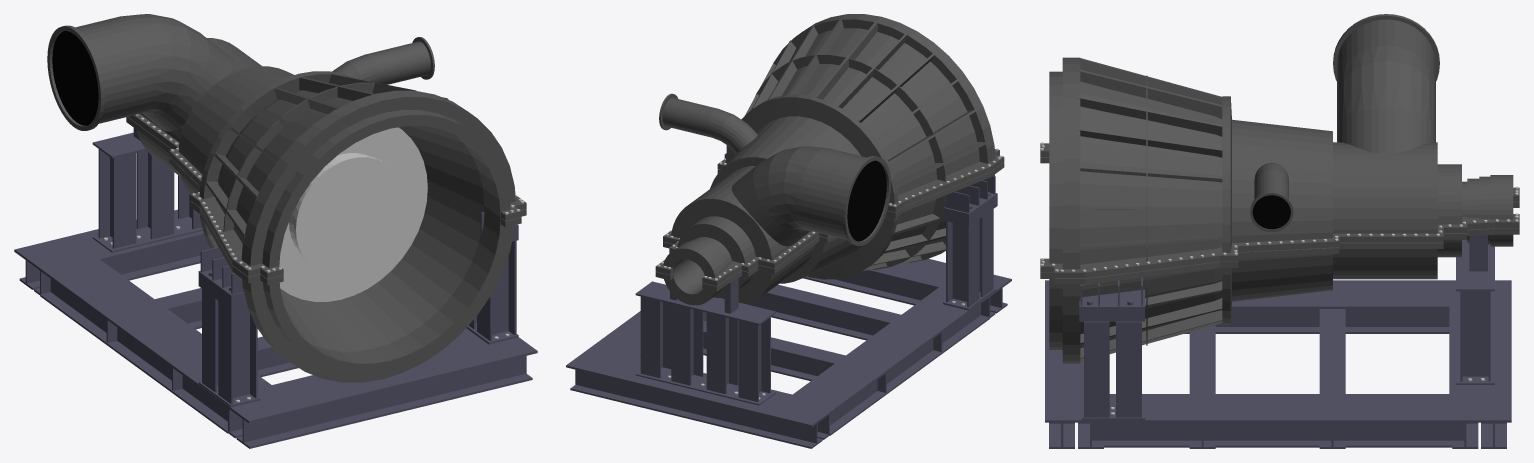
File: TURBINE ONLY.fbx
The picture shows the model from 3 angles, left to right: view 1: azimuth 30°, elevation 25°; view 2: azimuth 150°, elevation 25°; view 3: azimuth 270°, elevation 25°; orthographic projection. The views are drawn at different scales.
Visible parts, largest first — view 1: Group_51, Group_50, Group_53, Group_77, Group_65, Group_315, Group_69, Group_73, Group_58, Group_57, Group_63, Group_313 (+14 smaller); view 2: Group_51, Group_53, Group_77, Group_62, Group_71, Group_315, Group_69, Group_313, Group_72, Group_161, Group_58, Group_57 (+20 smaller); view 3: Group_51, Group_53, Group_77, Group_66, Group_162, Group_68, Group_164, Group_55, Group_75, Group_76, Group_70, Group_71 (+20 smaller).
Boxes of the visible parts, x1=… form: Group_51: x1=137, y1=38, x2=515, y2=382; Group_50: x1=279, y1=127, x2=427, y2=301; Group_53: x1=14, y1=209, x2=537, y2=423; Group_77: x1=75, y1=14, x2=234, y2=131; Group_65: x1=236, y1=356, x2=532, y2=448; Group_315: x1=47, y1=25, x2=104, y2=130; Group_69: x1=40, y1=277, x2=228, y2=433; Group_73: x1=218, y1=301, x2=257, y2=404; Group_58: x1=98, y1=149, x2=136, y2=248; Group_57: x1=136, y1=150, x2=174, y2=239; Group_63: x1=34, y1=236, x2=210, y2=298; Group_313: x1=332, y1=41, x2=430, y2=84; Group_51: x1=663, y1=14, x2=995, y2=305; Group_53: x1=566, y1=258, x2=1011, y2=427; Group_77: x1=731, y1=146, x2=866, y2=246; Group_62: x1=570, y1=369, x2=822, y2=448; Group_71: x1=748, y1=284, x2=946, y2=355; Group_315: x1=842, y1=156, x2=890, y2=245; Group_69: x1=829, y1=304, x2=989, y2=435; Group_313: x1=662, y1=97, x2=757, y2=153; Group_72: x1=946, y1=219, x2=979, y2=307; Group_161: x1=702, y1=149, x2=1004, y2=286; Group_58: x1=738, y1=317, x2=770, y2=401; Group_57: x1=706, y1=312, x2=738, y2=394; Group_51: x1=1049, y1=57, x2=1513, y2=363; Group_53: x1=1045, y1=280, x2=1511, y2=422; Group_77: x1=1337, y1=19, x2=1435, y2=154; Group_66: x1=1092, y1=422, x2=1464, y2=447; Group_162: x1=1040, y1=214, x2=1519, y2=278; Group_68: x1=1184, y1=309, x2=1449, y2=333; Group_164: x1=1040, y1=228, x2=1519, y2=284; Group_55: x1=1460, y1=291, x2=1490, y2=381; Group_75: x1=1116, y1=321, x2=1141, y2=417; Group_76: x1=1084, y1=321, x2=1109, y2=417; Group_70: x1=1319, y1=309, x2=1345, y2=448; Group_71: x1=1189, y1=325, x2=1215, y2=448.
Size of the model in its own units: 77.62 by 78.74 by 111.
